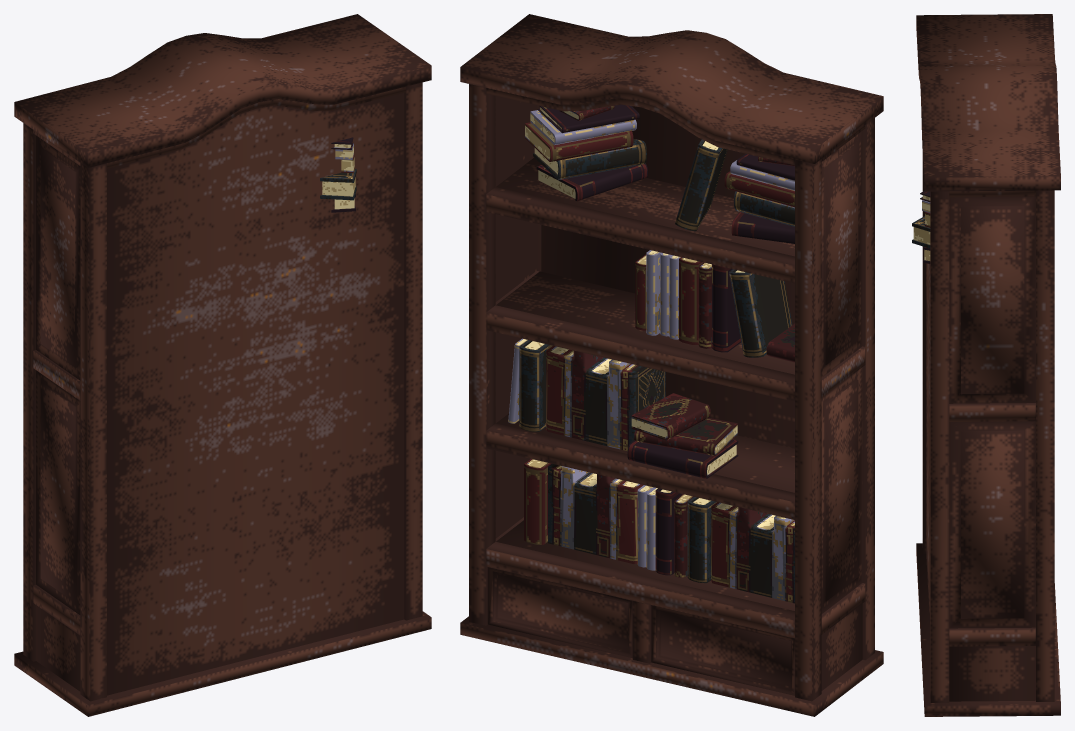
File: bookshelf_01.fbx
3 views of the same model, side by side, from view 1: azimuth 30°, elevation 25°; view 2: azimuth 150°, elevation 25°; view 3: azimuth 270°, elevation 25° (orthographic). The views are drawn at different scales.
Parts seen in each view (by area): view 1: bookshelf; view 2: bookshelf; view 3: bookshelf.
Part boxes in pixels (x1,y1,x2,y2): bookshelf: (14, 14, 431, 716); bookshelf: (460, 14, 883, 716); bookshelf: (912, 14, 1060, 716).
Bounding box in the file's own units: 189 × 302 × 72.7.
